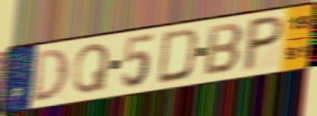5: (121, 30, 158, 91)
B: (202, 22, 246, 78)
D: (155, 26, 202, 87), (32, 46, 72, 105)
P: (239, 14, 288, 75)
Q: (71, 42, 112, 96)
